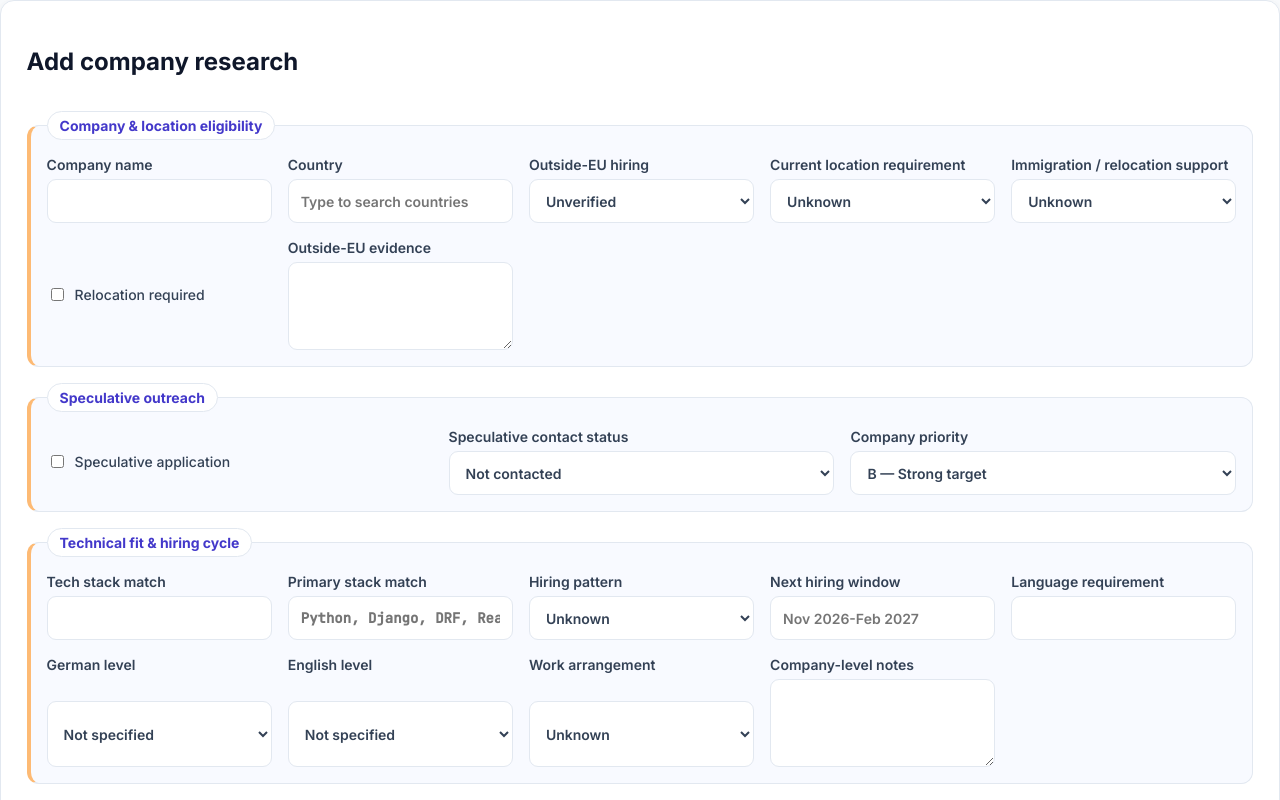
Test: CompanyForm › starts without a country restriction and offers countries from the first typed letter
Type "u" into the dropdown labelled "Country". click: (400, 201)
box: [288,179,513,223]
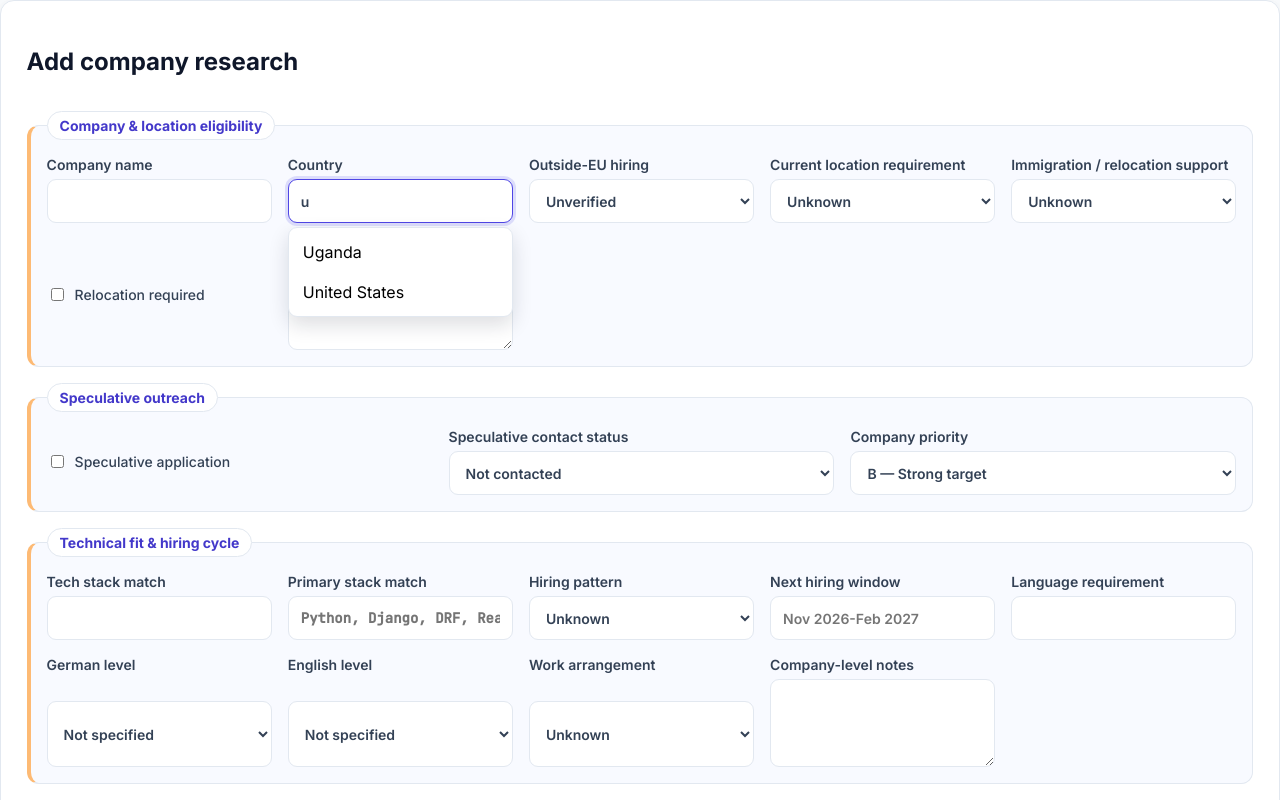
Check: the option "Uganda" is shown, box [293,232,508,272]
Check: the option "United States" is shown, box [293,272,508,312]
